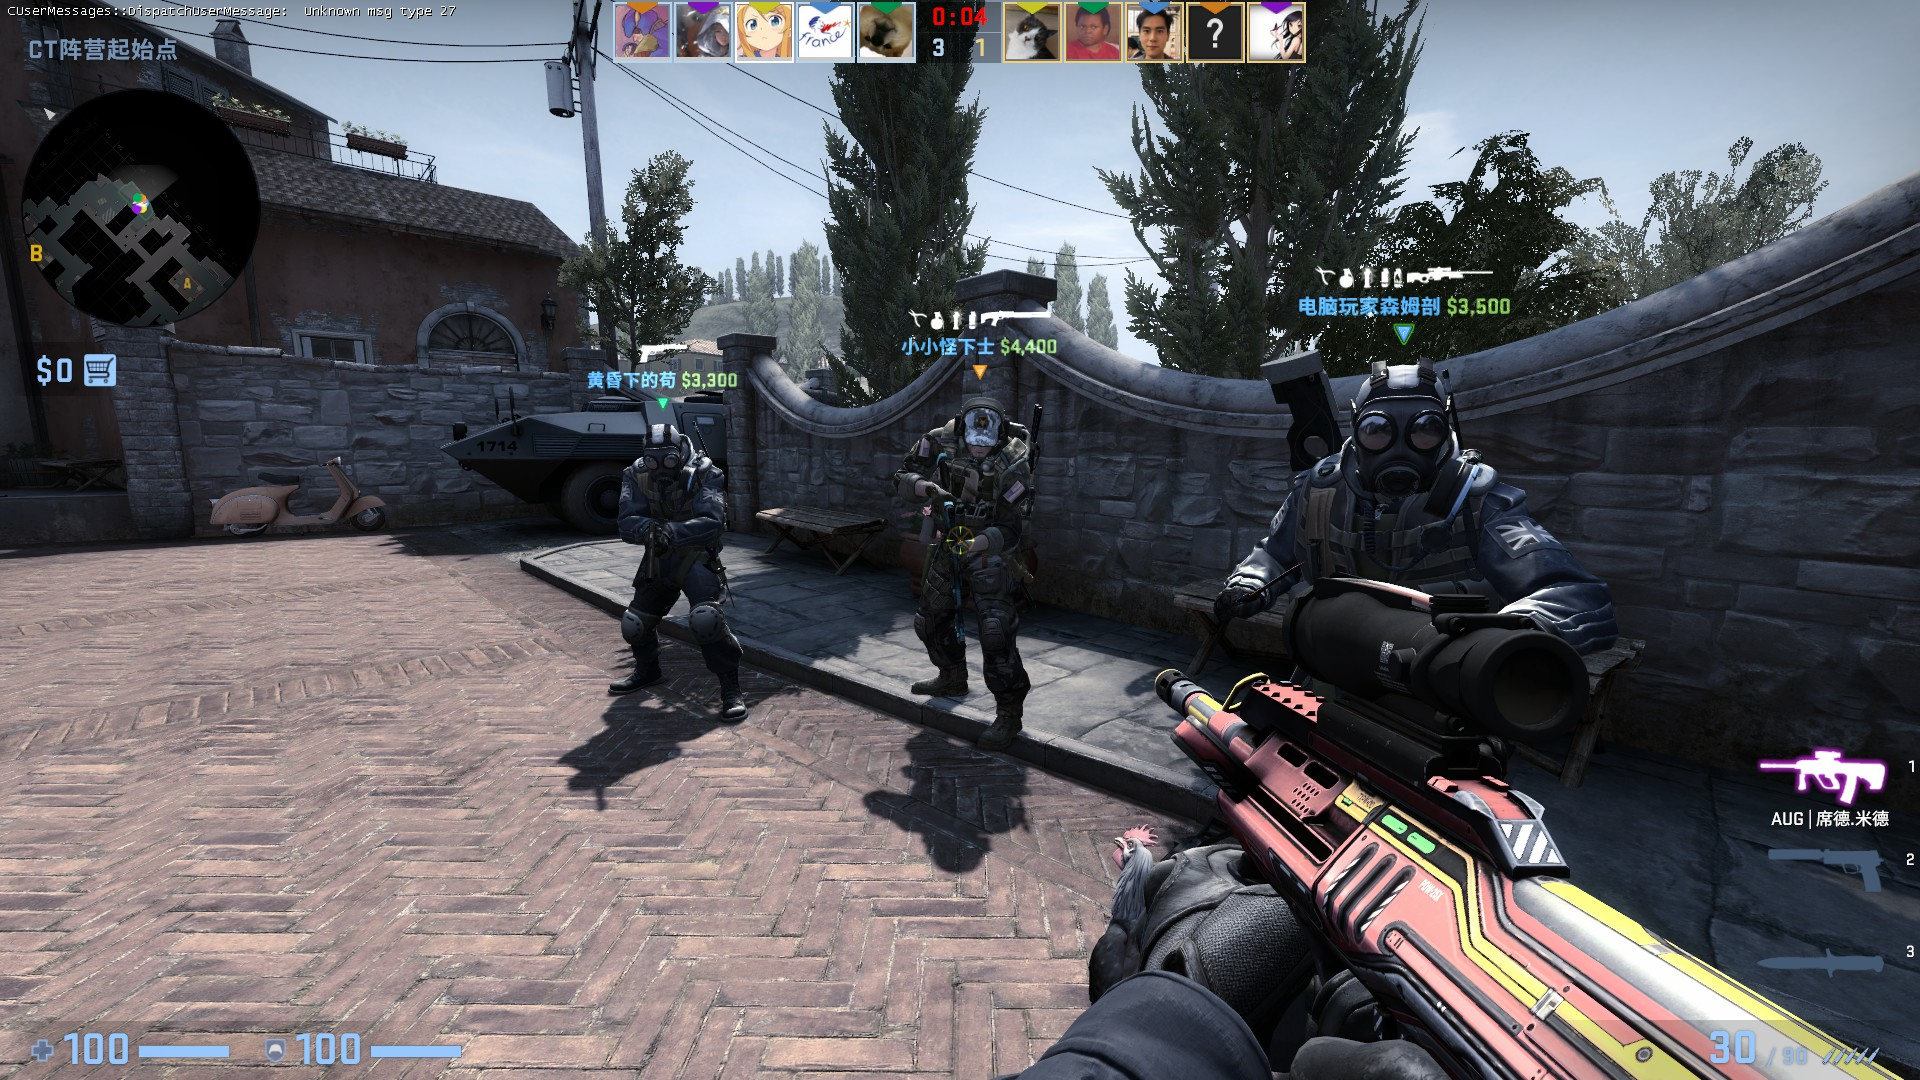head: (1351, 359, 1455, 497), (956, 391, 1008, 457), (638, 419, 688, 484)
